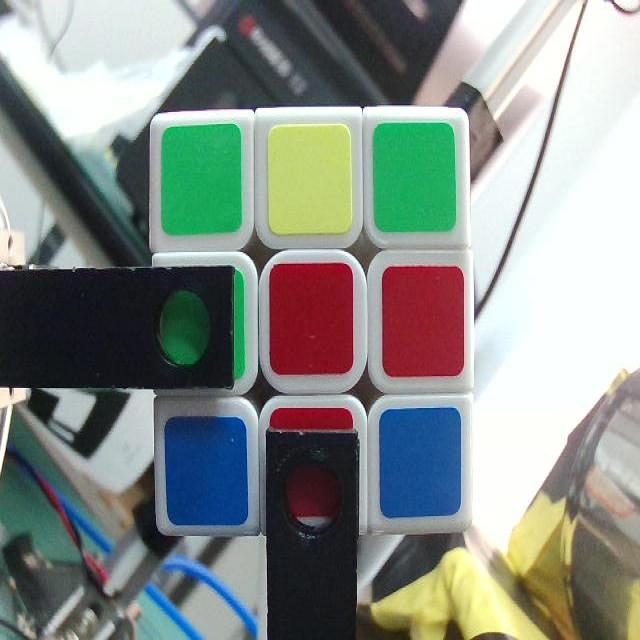b: (166, 423, 249, 529), (380, 414, 460, 518)
g: (165, 270, 247, 386), (164, 126, 244, 238), (376, 124, 458, 228)
r: (273, 408, 357, 519), (273, 264, 353, 376), (385, 266, 462, 378)
y: (265, 119, 352, 236)
